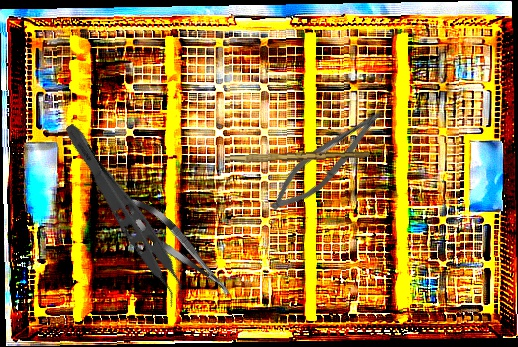Micro Scissor: (261, 94, 392, 225), (118, 189, 239, 305)
Scalpel Handle: (224, 148, 370, 166)
Tissue Forceps: (48, 119, 197, 311)
